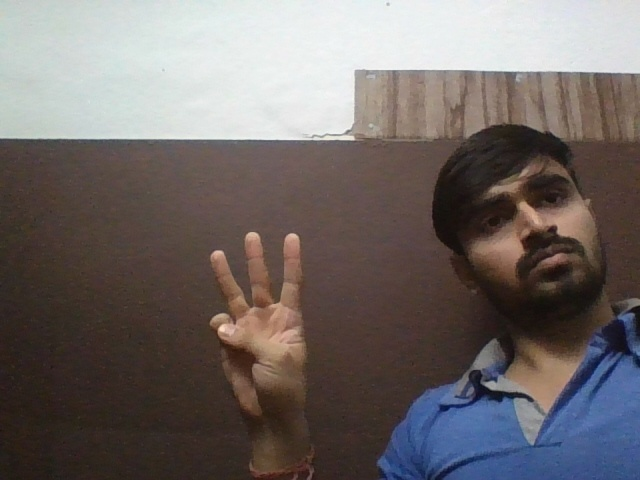W: (199, 224, 323, 423)
